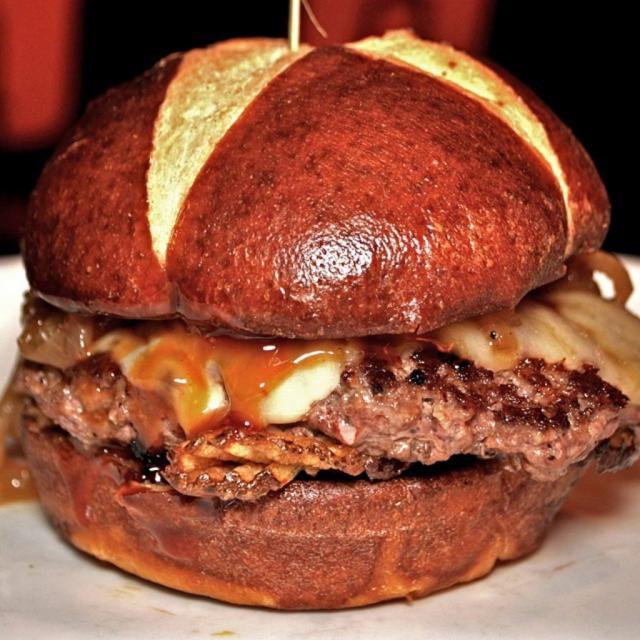Hamburger: (0, 28, 639, 615)
